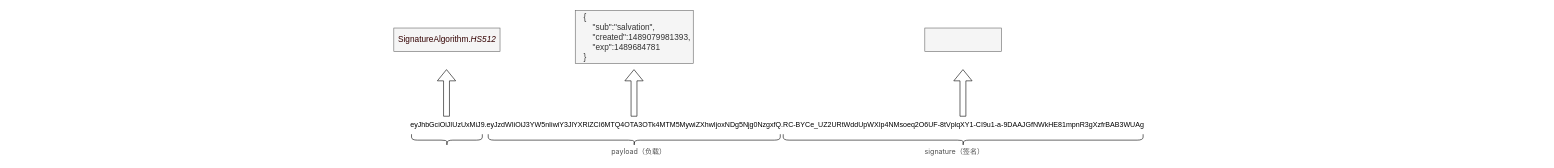
This 1554x168 diagram has some shape labels left out. Here are the shapes that lost their labels. From the top down, the box of each, then its label:
(924, 27, 1002, 52): 加解密使用的密钥
(411, 134, 482, 146): header（头）
